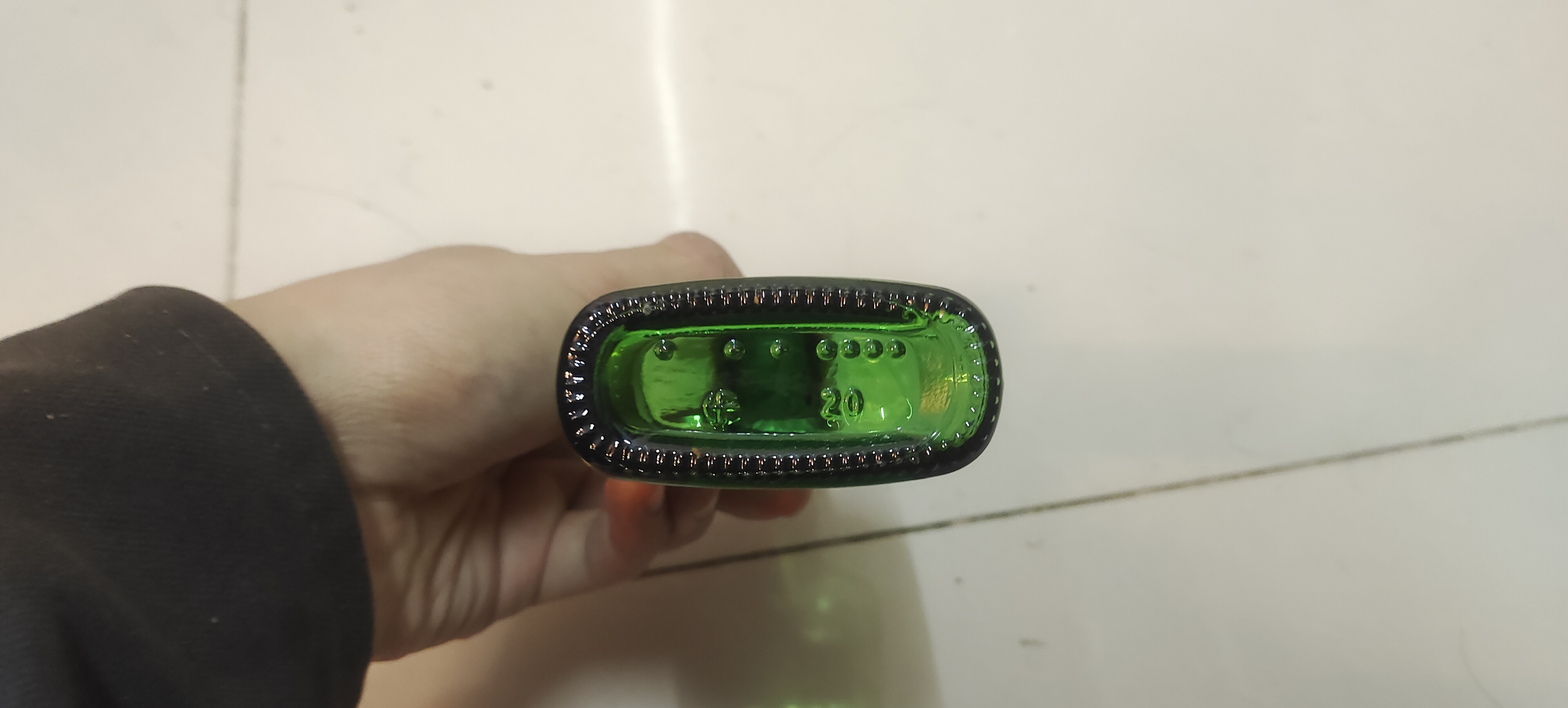redbull: (524, 261, 995, 496)
